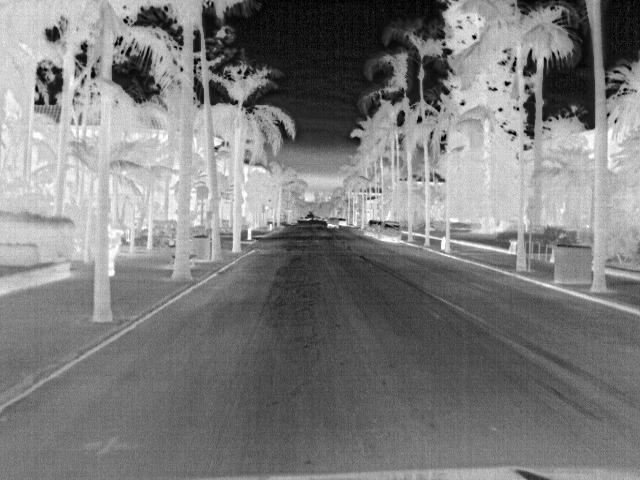car: (379, 221, 403, 243), (363, 220, 385, 236), (326, 216, 342, 228), (335, 215, 349, 226)
person: (107, 225, 128, 277)
